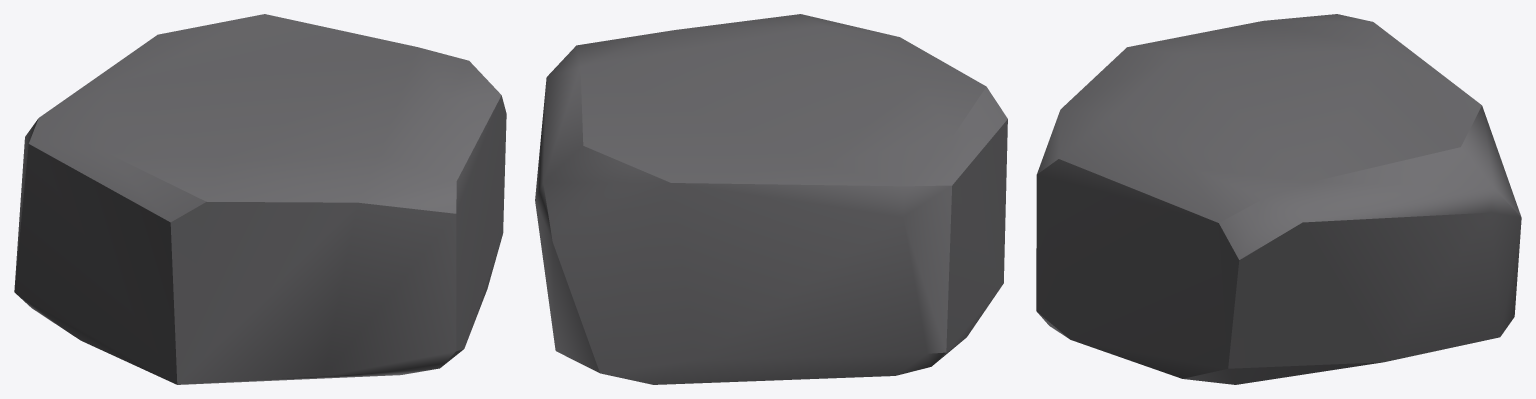
The model's file is Stone_13.fbx.
3 views of the same model, side by side, from view 1: azimuth 30°, elevation 25°; view 2: azimuth 150°, elevation 25°; view 3: azimuth 270°, elevation 25° (orthographic). The views are drawn at different scales.
Parts seen in each view (by area): view 1: Stone_13; view 2: Stone_13; view 3: Stone_13.
Part boxes in pixels (x1,y1,x2,y2): Stone_13: (14,14,506,384); Stone_13: (535,14,1007,384); Stone_13: (1036,14,1521,384).
Bounding box in the file's own units: 238 × 108 × 232.
